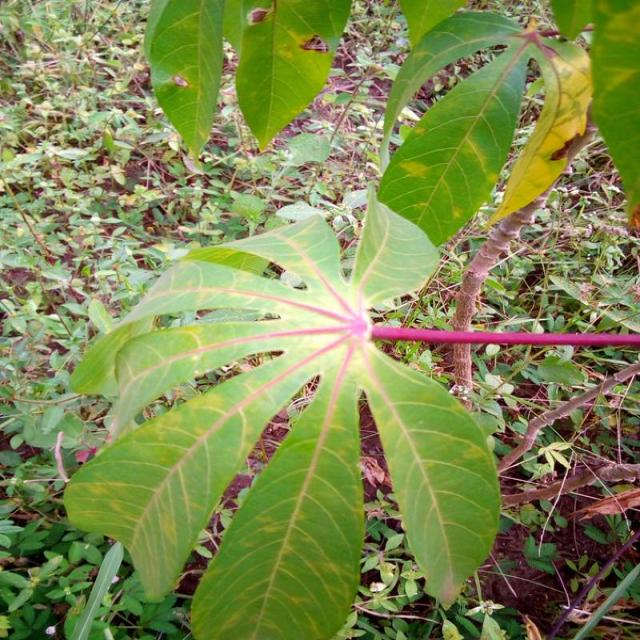cassava leaf: (62, 185, 504, 638), (188, 356, 365, 638), (358, 339, 502, 607), (375, 33, 532, 249), (235, 0, 352, 153), (142, 0, 224, 160)
